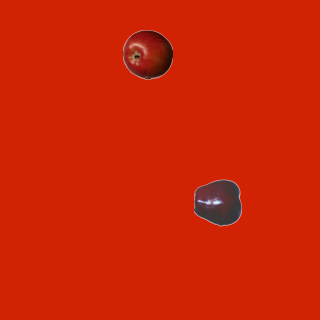Apple Braeburn: (122, 29, 172, 79)
Apple Red Delicious: (193, 177, 243, 227)
